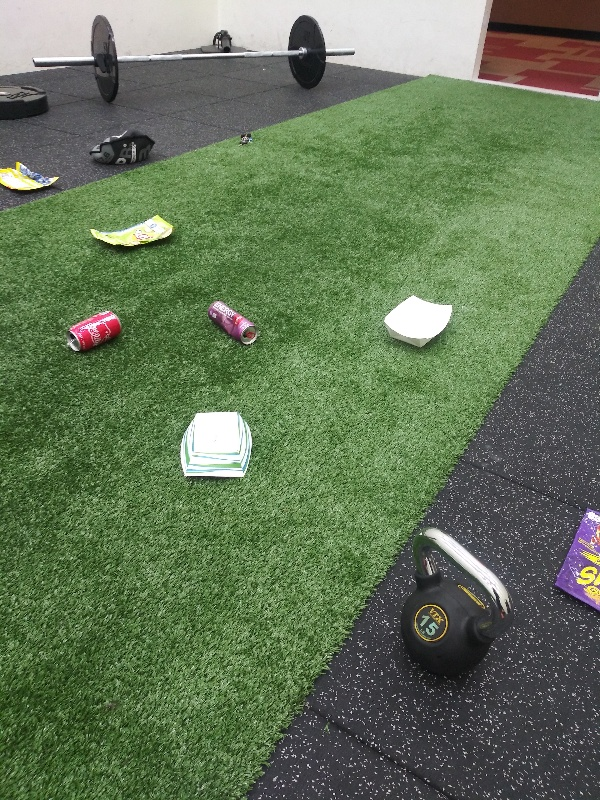bag: (552, 506, 600, 621), (89, 208, 177, 254), (1, 158, 72, 194)
can: (201, 296, 263, 349), (63, 308, 124, 354)
plate: (172, 405, 255, 487), (384, 293, 457, 357)
